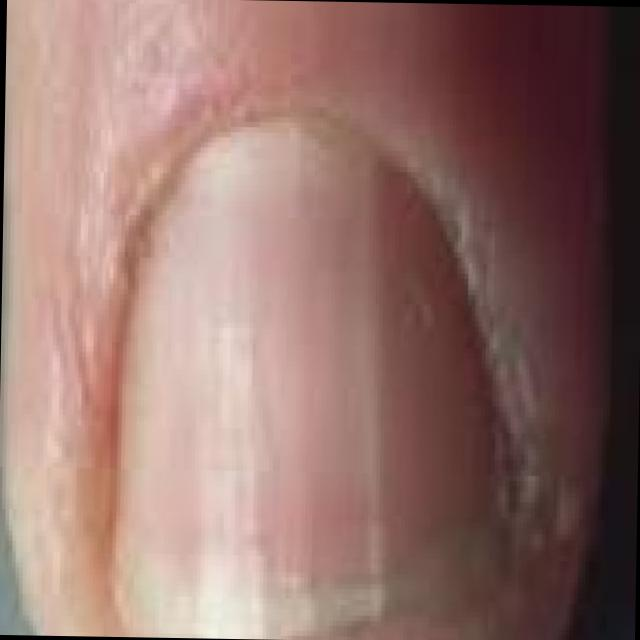Nail: (106, 109, 502, 639)
